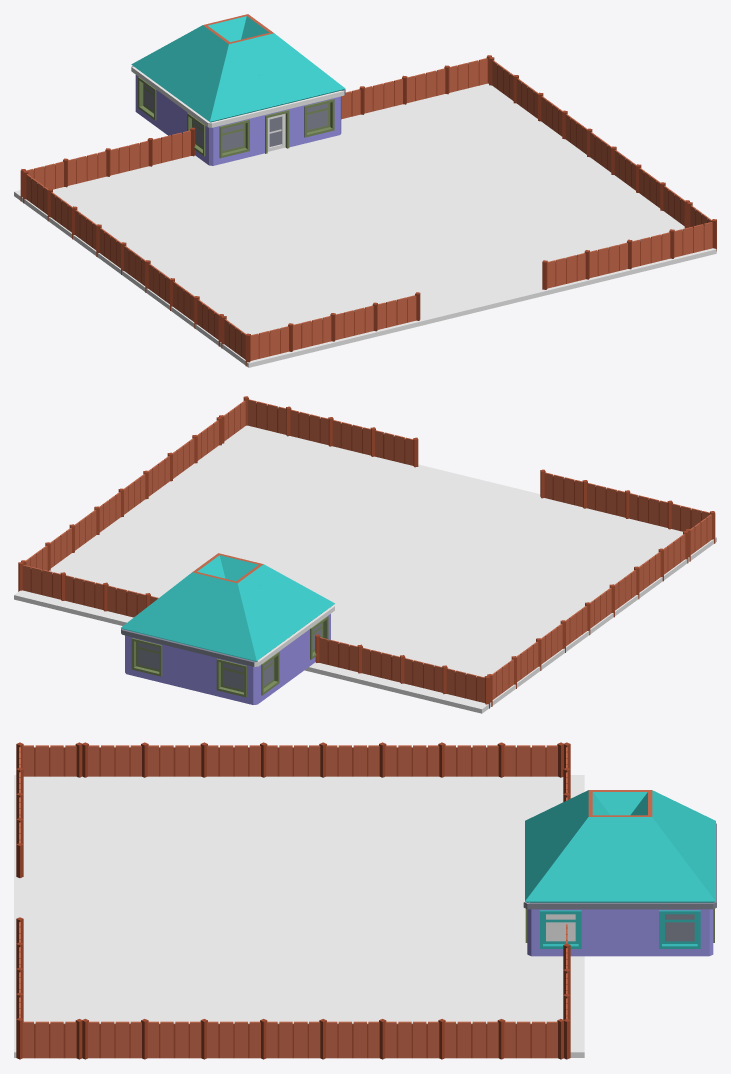
The model's file is Background_House_1.glb.
3 renders of one model, top to bottom at view 1: azimuth 30°, elevation 25°; view 2: azimuth 150°, elevation 25°; view 3: azimuth 270°, elevation 25°, orthographic. The views are drawn at different scales.
Parts seen in each view (by area): view 1: mergedBlocks(Clone); view 2: mergedBlocks(Clone); view 3: mergedBlocks(Clone).
Part boxes in pixels (x1,y1,x2,y2): mergedBlocks(Clone): (14,14,716,367); mergedBlocks(Clone): (14,396,716,713); mergedBlocks(Clone): (14,742,716,1059).
Size of the model in its own units: 11.13 by 2.21 by 11.83.
